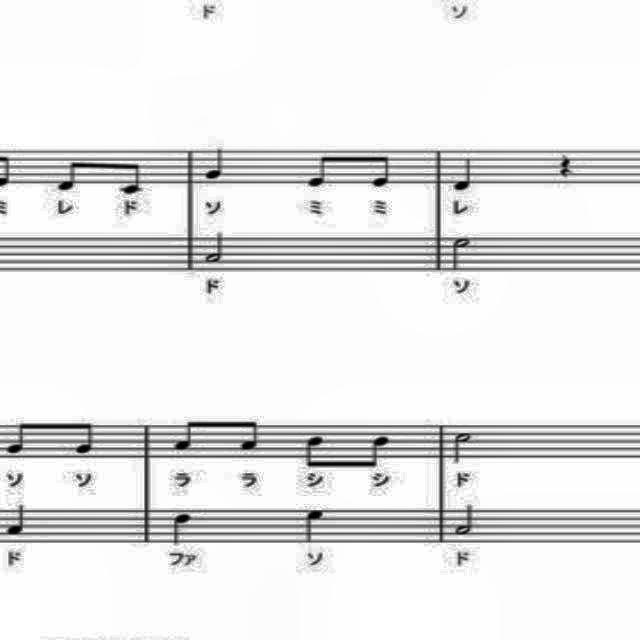Eighth-note: (362, 428, 393, 472), (0, 417, 32, 458), (300, 432, 332, 472), (170, 412, 198, 456), (364, 152, 396, 190), (72, 410, 96, 458), (234, 416, 266, 452), (118, 158, 146, 198), (304, 151, 332, 191), (55, 156, 79, 192)
Half-note: (446, 228, 476, 276), (448, 428, 477, 466), (202, 230, 230, 266), (452, 502, 478, 538)
Quarter-note: (303, 506, 331, 544), (203, 146, 229, 184), (452, 156, 476, 194), (4, 503, 28, 539), (170, 512, 194, 548)
Quarter-rest: (554, 150, 582, 180)
